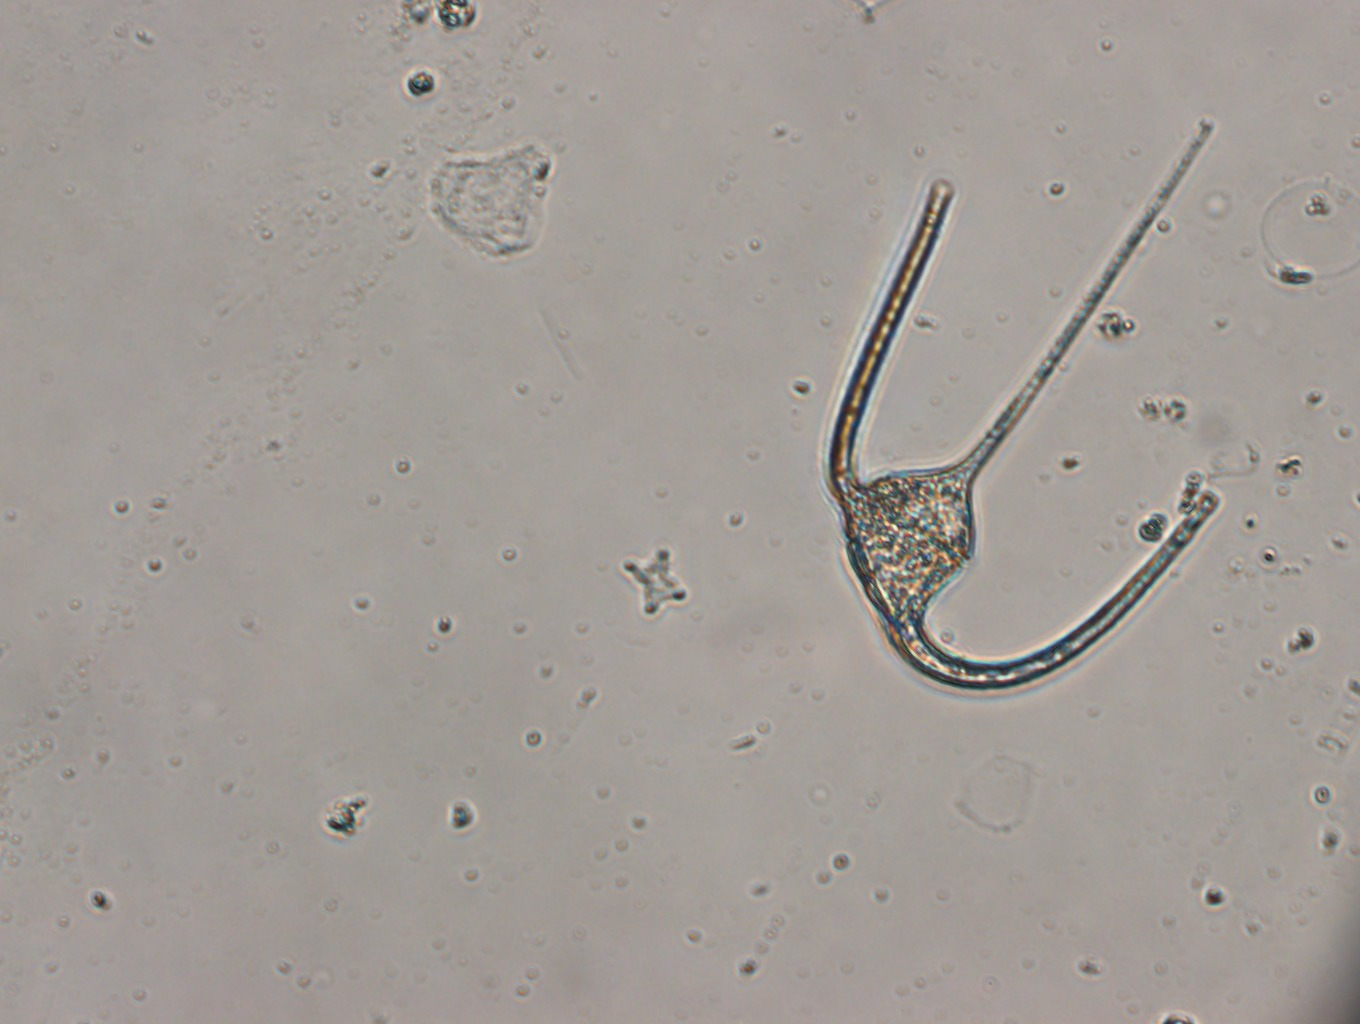ceratium trichoceros: (822, 122, 1222, 698)
